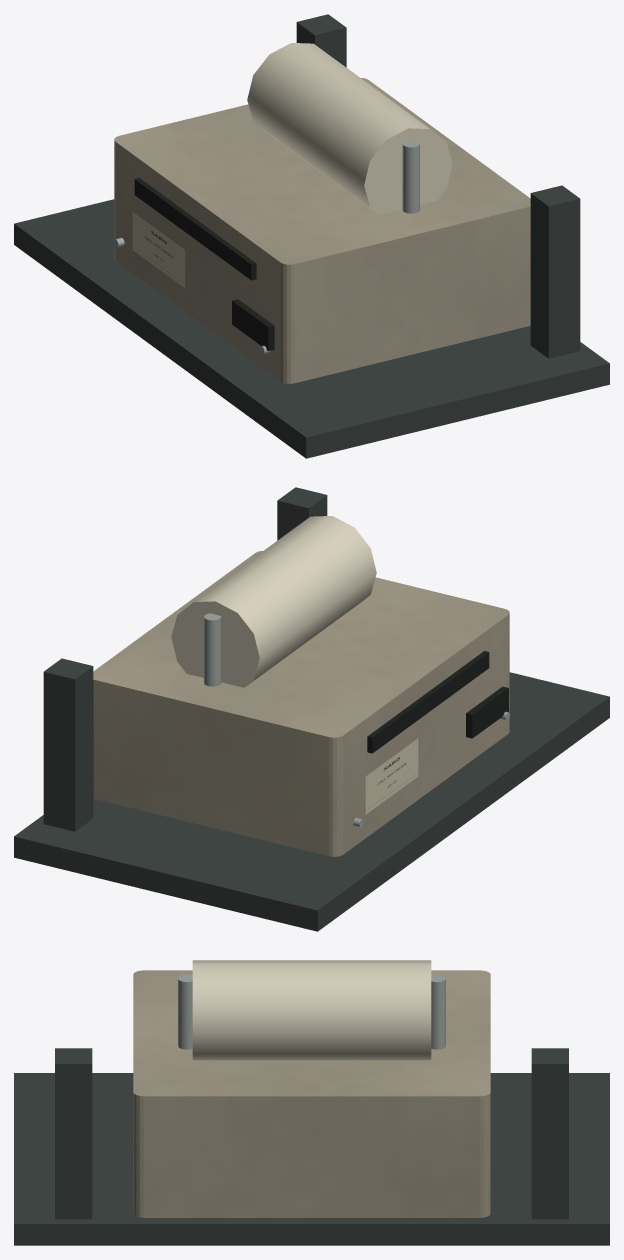
Rendered from SM_ArchiveProps_CallRecorder.glb.
3 renders of one model, top to bottom at view 1: azimuth 30°, elevation 25°; view 2: azimuth 150°, elevation 25°; view 3: azimuth 270°, elevation 25°, orthographic.
Visible parts, largest first — view 1: SM_ArchiveProps_CallRecorder; view 2: SM_ArchiveProps_CallRecorder; view 3: SM_ArchiveProps_CallRecorder.
Boxes of the visible parts, left/top/right/bottom form: SM_ArchiveProps_CallRecorder: left=14, top=14, right=609, bottom=458; SM_ArchiveProps_CallRecorder: left=14, top=487, right=609, bottom=931; SM_ArchiveProps_CallRecorder: left=14, top=960, right=609, bottom=1245.
Bounding box in the file's own units: 0.24 × 0.166 × 0.4.
Materials: 6 (2 with a texture image).
